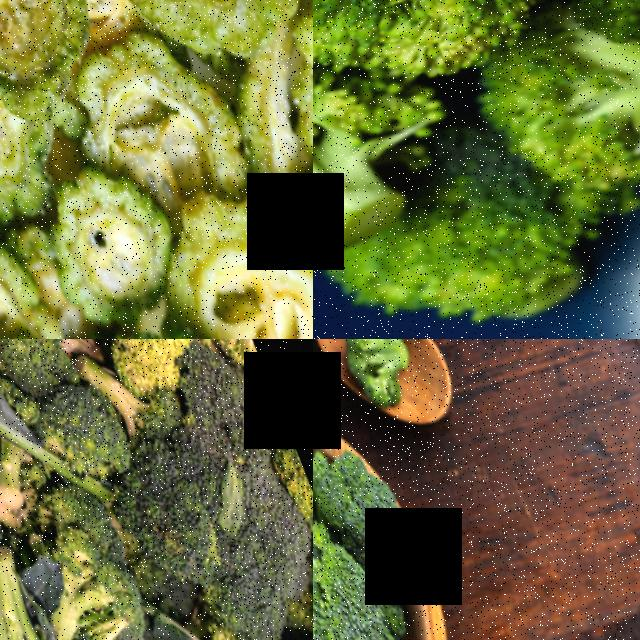-: (313, 0, 610, 125)
bitter gourd: (0, 0, 313, 339)
broccoli: (113, 348, 313, 640), (359, 141, 617, 339), (477, 0, 640, 218), (313, 55, 434, 271), (28, 460, 168, 640), (313, 498, 410, 640), (324, 441, 413, 557), (0, 539, 95, 640), (0, 365, 42, 528), (331, 339, 425, 407)
